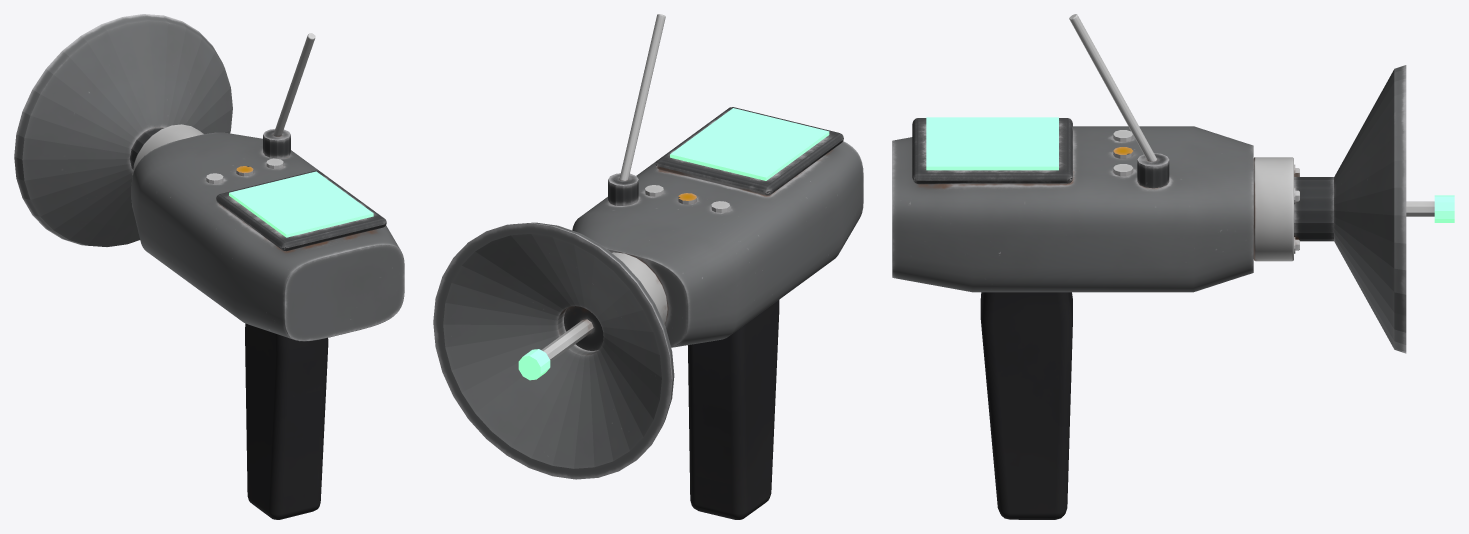
The model's file is SM_ScannerTool.glb.
The picture shows the model from 3 angles, left to right: view 1: azimuth 30°, elevation 25°; view 2: azimuth 150°, elevation 25°; view 3: azimuth 270°, elevation 25°; orthographic projection. The views are drawn at different scales.
Visible parts, largest first — view 1: SM_ScannerTool, SM_ScannerTool_Dish; view 2: SM_ScannerTool, SM_ScannerTool_Dish; view 3: SM_ScannerTool, SM_ScannerTool_Dish.
Part boxes in pixels (x1,y1,x2,y2): SM_ScannerTool: (131,33,404,519); SM_ScannerTool_Dish: (14,14,232,246); SM_ScannerTool: (572,14,863,519); SM_ScannerTool_Dish: (433,222,674,479); SM_ScannerTool: (892,14,1299,519); SM_ScannerTool_Dish: (1294,65,1454,353).
Bounding box in the file's own units: 0.144 × 0.2859 × 0.28.
Materials: 6 (5 with a texture image).
